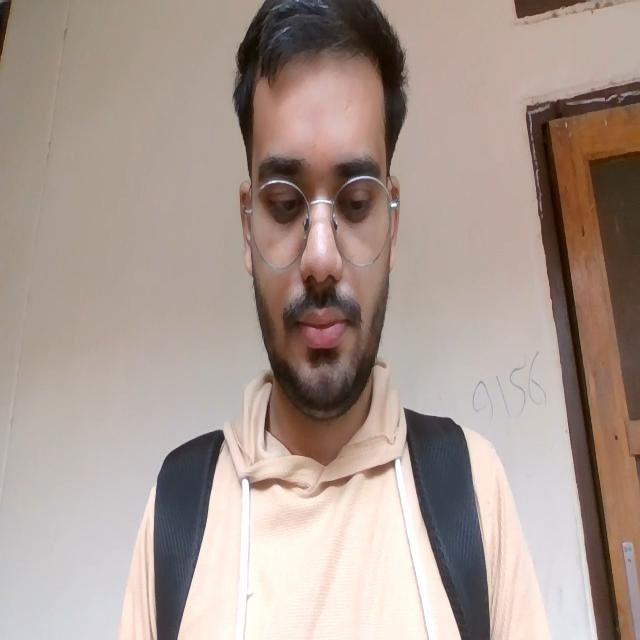drowsy: (258, 154, 378, 358)
